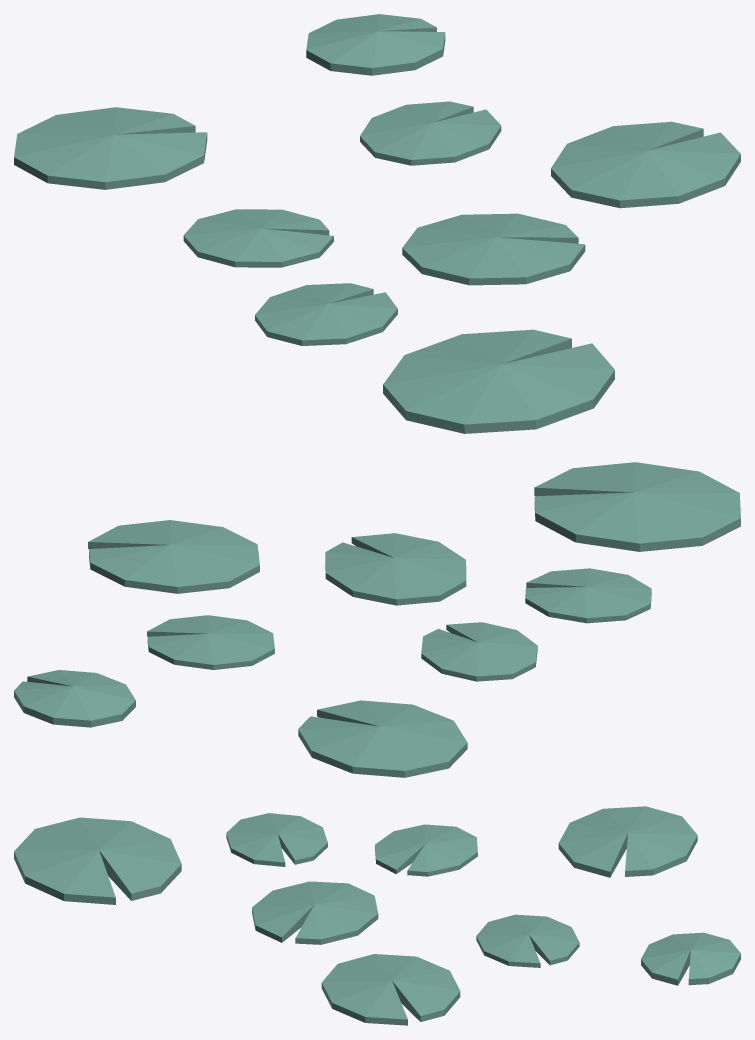
The model's file is lily_pads.glb.
3 renders of one model, top to bottom at view 1: azimuth 30°, elevation 25°; view 2: azimuth 150°, elevation 25°; view 3: azimuth 270°, elevation 25°, orthographic. The views are drawn at different scales.
Visible parts, largest first — view 1: Water Lily Multi_1_A; view 2: Water Lily Multi_1_A; view 3: Water Lily Multi_1_A.
Boxes of the visible parts, box(x1,y1,x2,y2) form: Water Lily Multi_1_A: box(14, 14, 740, 433); Water Lily Multi_1_A: box(14, 462, 740, 777); Water Lily Multi_1_A: box(14, 806, 740, 1025).
Size of the model in its own units: 0.84 by 0.03 by 1.21.
1 material, 1 textured.
